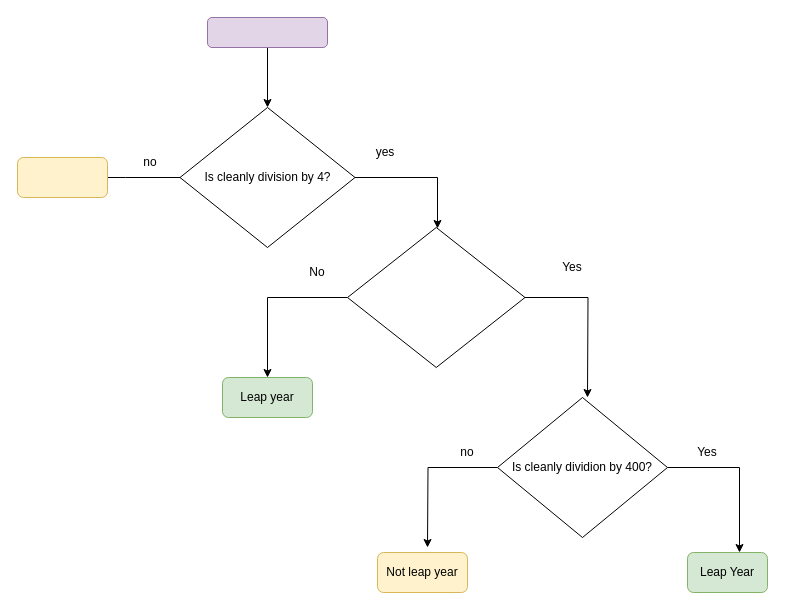
The diagram is 785 pixels wide and 610 high, and some of its shapes have lost their labels. The box of each missing label's shape, as (x1, y1, x2, y2) in pixels:
Is cleanly division by 100?: (346, 226, 525, 368)
Not leap: (16, 156, 108, 198)
Start: (206, 16, 328, 48)
